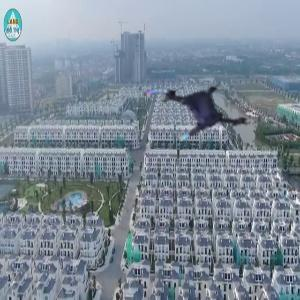drone: (144, 63, 242, 161)
